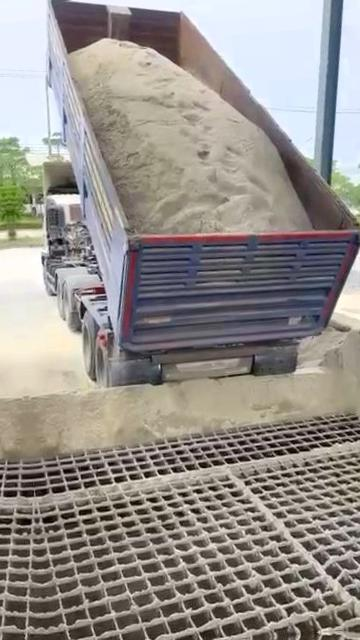sand: (41, 453, 360, 628), (70, 39, 311, 233), (28, 331, 360, 456), (312, 434, 360, 458)
